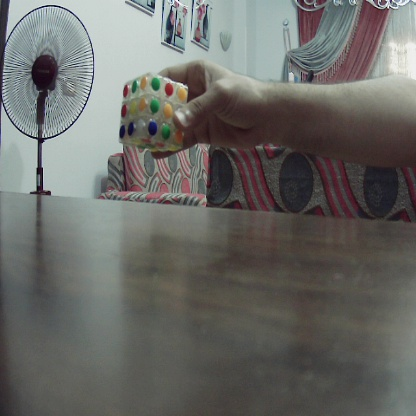Rubix Cube: (122, 74, 187, 154)
